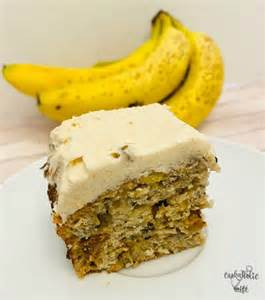banana: (33, 24, 190, 126)
